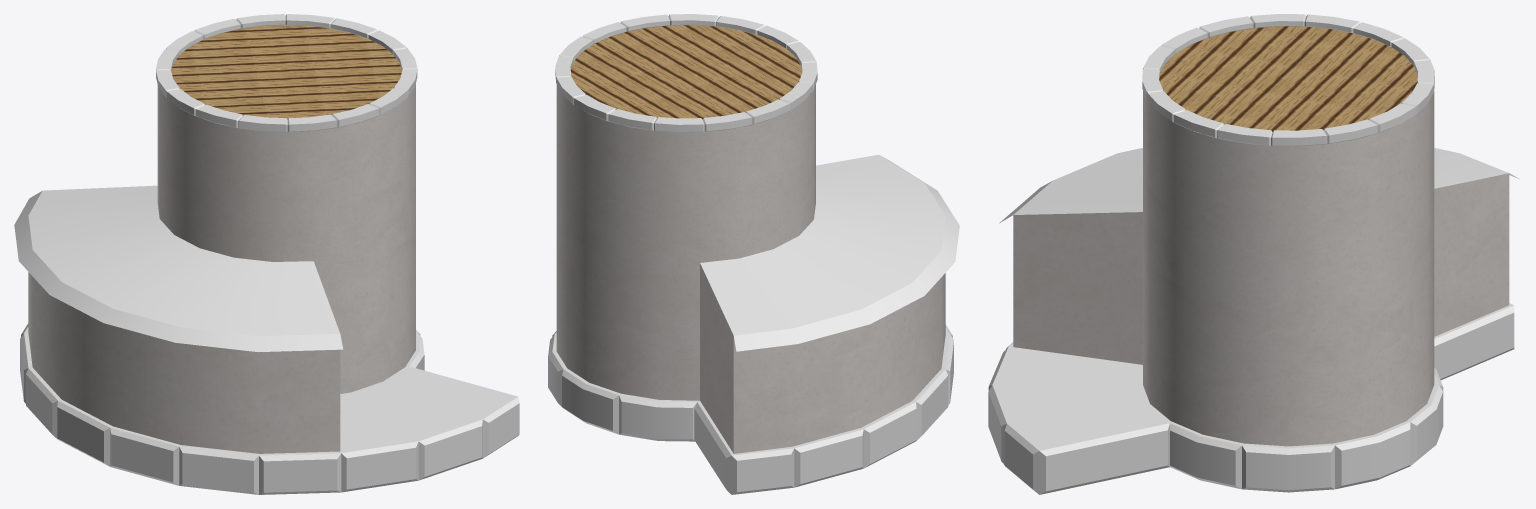
Rendered from SM_world_2_house_2.fbx.
The picture shows the model from 3 angles, left to right: view 1: azimuth 30°, elevation 25°; view 2: azimuth 150°, elevation 25°; view 3: azimuth 270°, elevation 25°; orthographic projection. The views are drawn at different scales.
Visible parts, largest first — view 1: Cylinder; view 2: Cylinder; view 3: Cylinder.
Part boxes in pixels (<box>): Cylinder: <box>14,14,519,494</box>; Cylinder: <box>548,14,959,494</box>; Cylinder: <box>988,14,1519,494</box>.
Size of the model in its own units: 1918 by 2196 by 1605.
